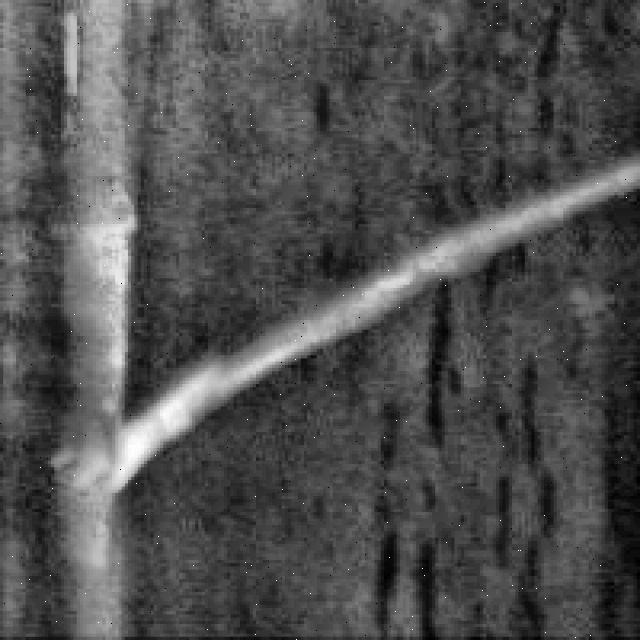Inclusion: (61, 163, 624, 496)
